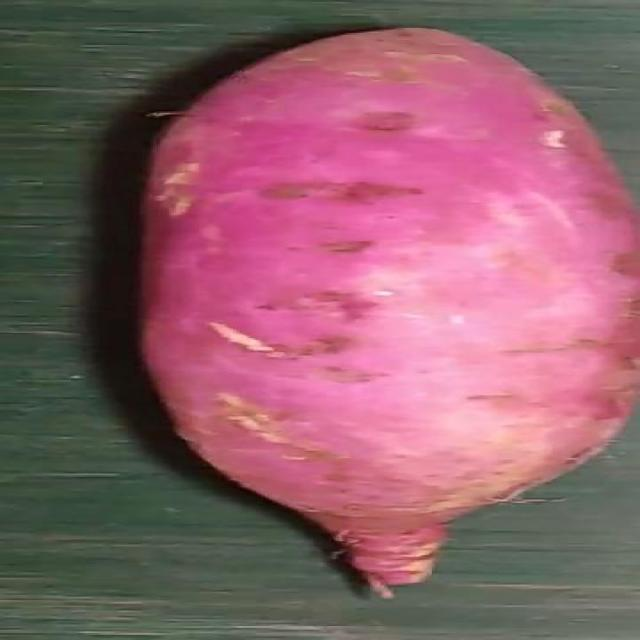Sweet Potato: (139, 28, 640, 584)
